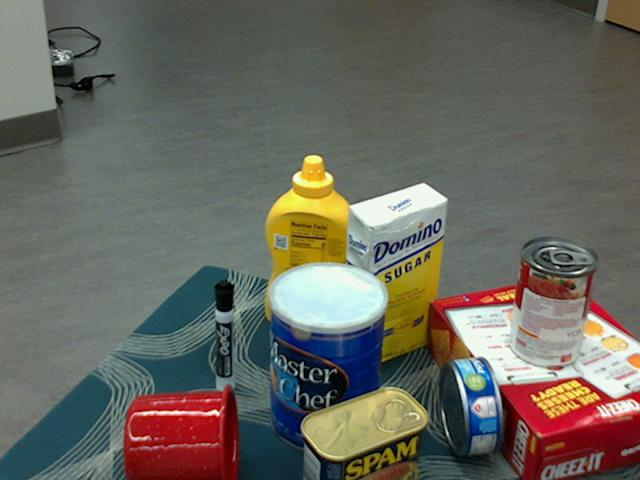cracker_box: (424, 277, 639, 479)
large_marker: (213, 279, 233, 392)
master_chef_can: (269, 263, 389, 456)
mug: (123, 384, 238, 479)
mustard_bottle: (263, 155, 357, 334)
potted_meat_can: (301, 387, 429, 479)
sugar_box: (339, 184, 448, 370)
tomato_soup_can: (508, 238, 597, 370)
tuna_fish_can: (440, 356, 504, 455)
